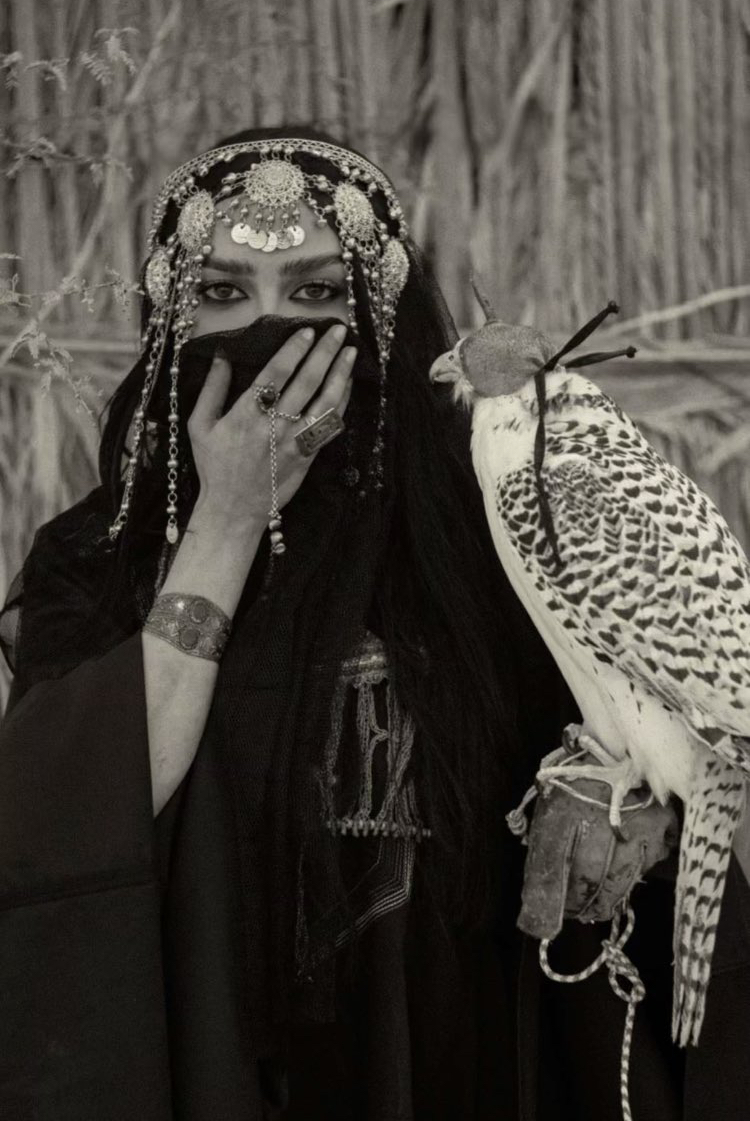Saudi_Founding_Day: (1, 114, 750, 1118)
